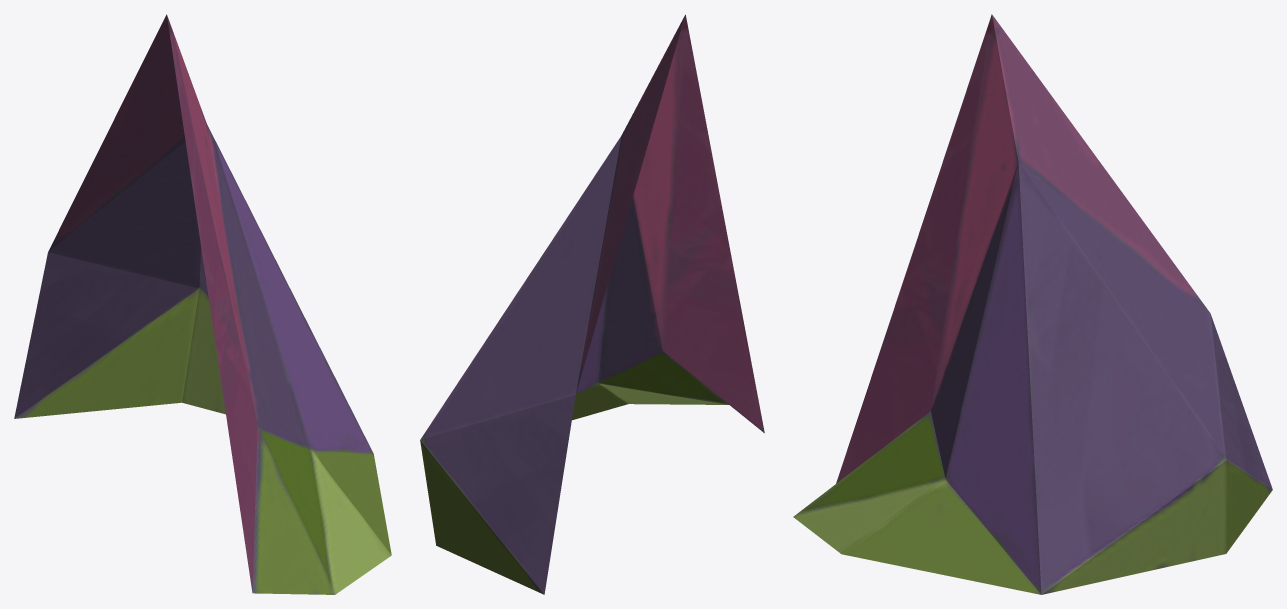
File: wall_crys_deco_A.fbx
3 renders of one model, left to right at view 1: azimuth 30°, elevation 25°; view 2: azimuth 150°, elevation 25°; view 3: azimuth 270°, elevation 25°, orthographic. The views are drawn at different scales.
Parts seen in each view (by area): view 1: wall_crys_deco_A; view 2: wall_crys_deco_A; view 3: wall_crys_deco_A.
Boxes of the visible parts, x1,y1,x2,y2 form: wall_crys_deco_A: (14,14,391,594); wall_crys_deco_A: (420,14,764,594); wall_crys_deco_A: (793,14,1272,594).
Size of the model in its own units: 0.00912 by 0.0193 by 0.0176.
